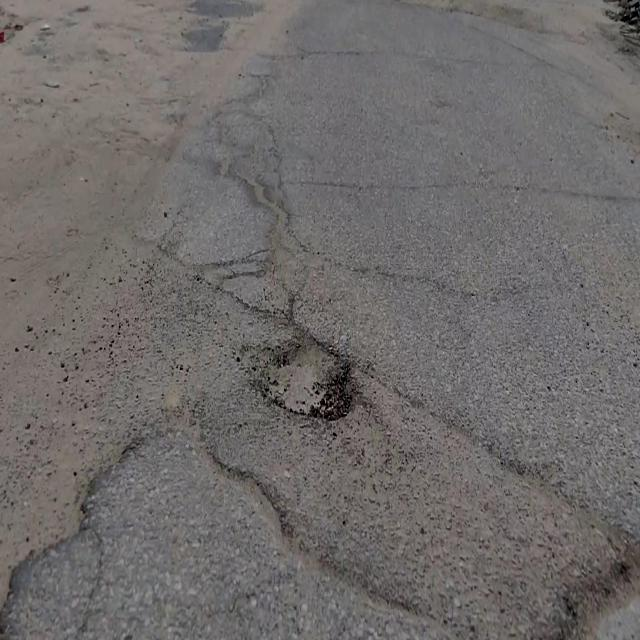Potholes: (239, 322, 363, 421)
